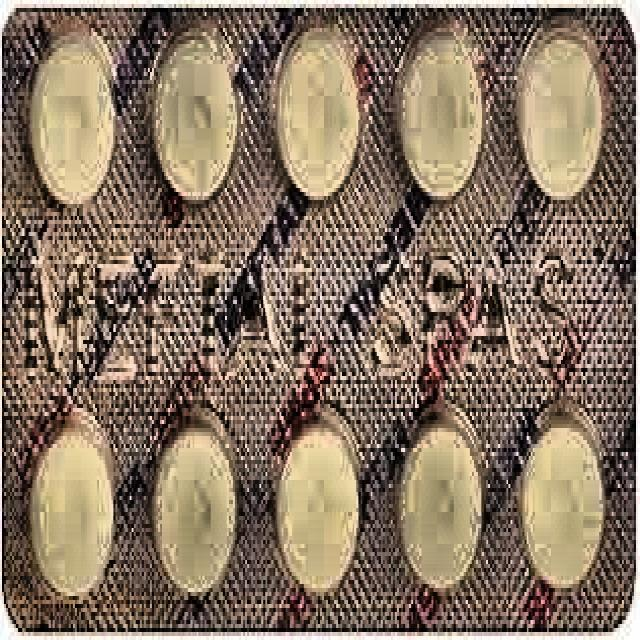Meftal: (11, 193, 582, 420)
